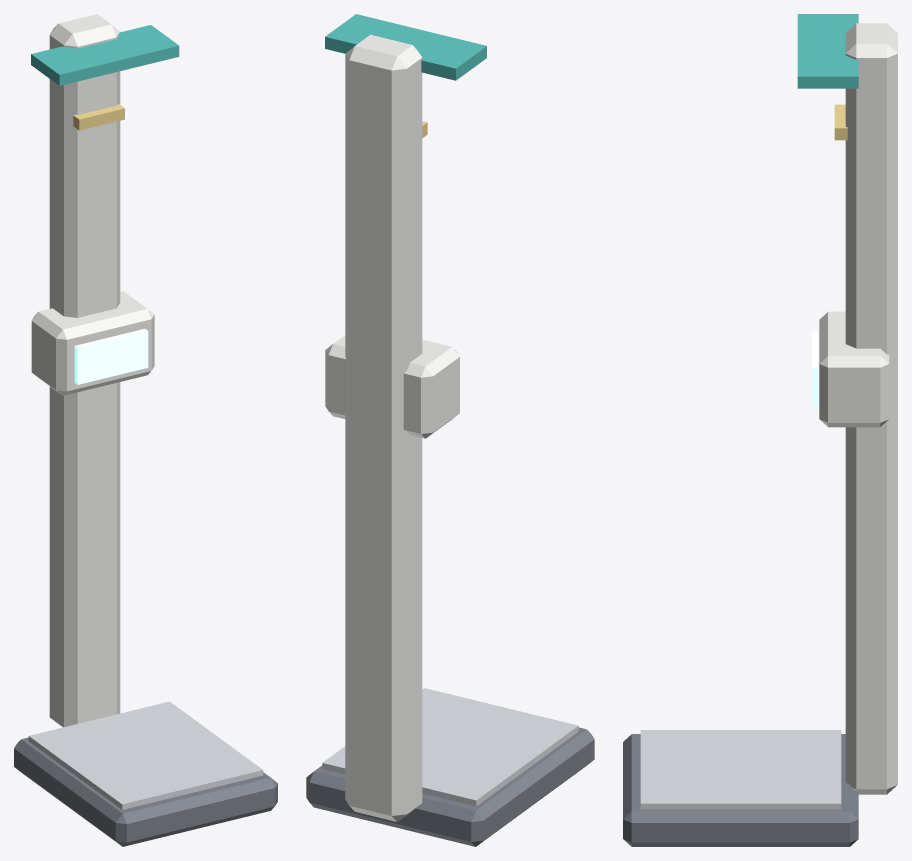
The model's file is medical-23609.glb.
3 views of the same model, side by side, from view 1: azimuth 30°, elevation 25°; view 2: azimuth 150°, elevation 25°; view 3: azimuth 270°, elevation 25° (orthographic). The views are drawn at different scales.
Parts seen in each view (by area): view 1: weighing-station; view 2: weighing-station; view 3: weighing-station.
Boxes of the visible parts, box(x1,y1,x2,y2) form: weighing-station: box(14, 14, 277, 846); weighing-station: box(306, 14, 594, 846); weighing-station: box(623, 14, 897, 846).
Size of the model in its own units: 0.46 by 1.96 by 0.63.
